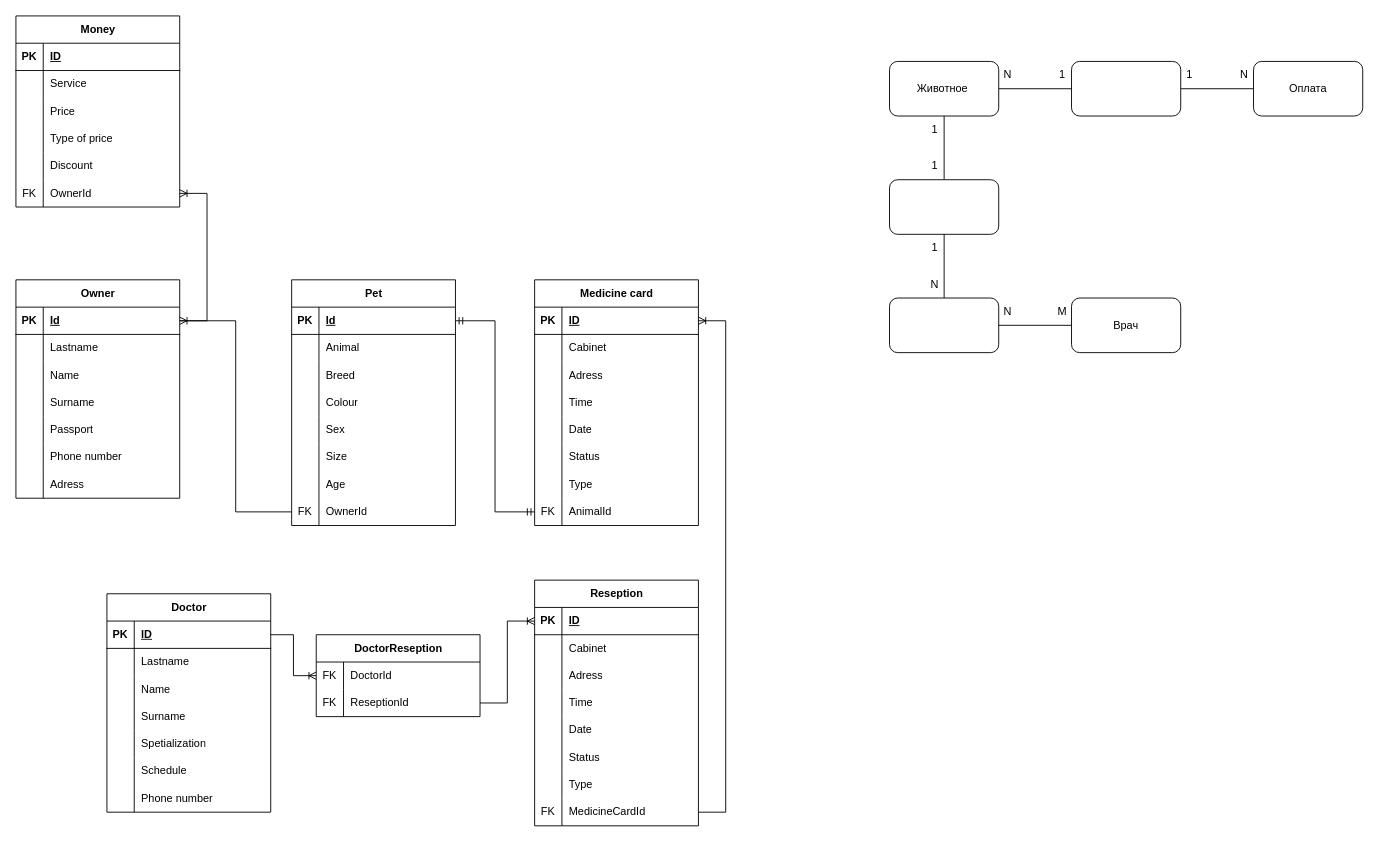
Some shapes in this 1379 by 842 pixel diagram are drawn without their labels. Each missing label, with the centre of its shape:
Владелец: pixel 1126 88
Медицинская карта: pixel 944 206
Прием: pixel 944 325
